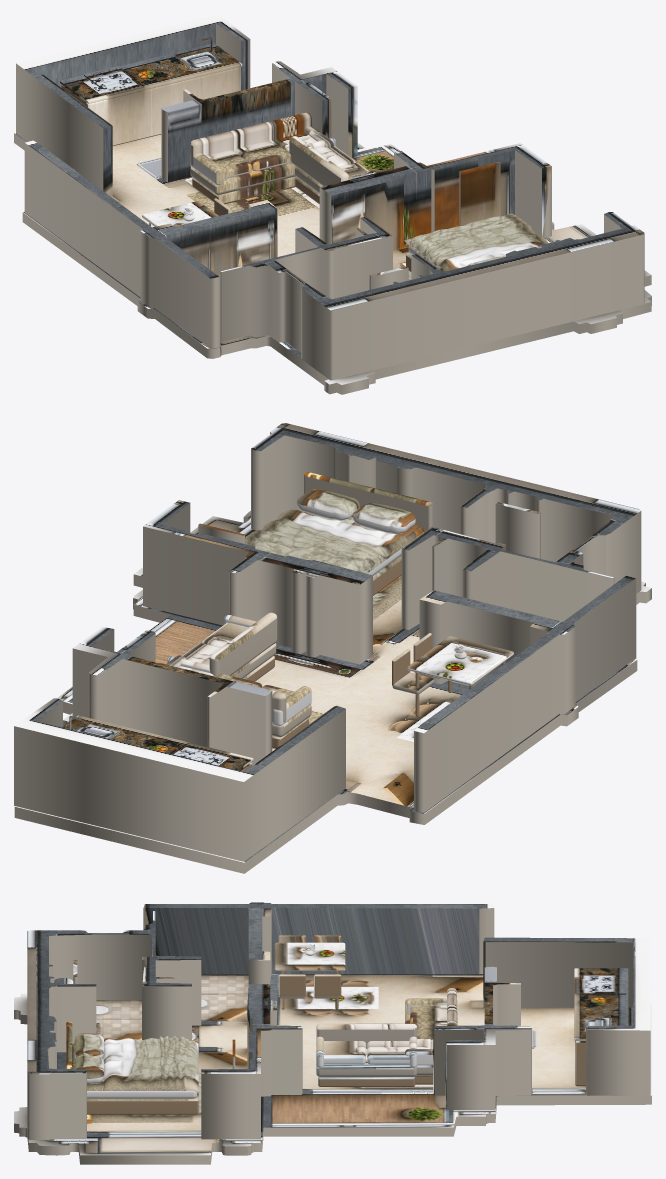
The model's file is p13-07-u07-2112-image-model.glb.
The picture shows the model from 3 angles, top to bottom: view 1: azimuth 30°, elevation 25°; view 2: azimuth 150°, elevation 25°; view 3: azimuth 270°, elevation 25°; orthographic projection. The views are drawn at different scales.
Visible parts, largest first — view 1: Partition walls, Apartment floor, Kitchen cabinets, Stone worktop, Draped bed linen, Sofa back, Draped bed linen.001, Sofa back.001, Upholstered sofa frame, Seat cushion.001, Sofa plinth, Marble dining top (+3 smaller); view 2: Partition walls, Apartment floor, Draped bed linen, Marble dining top, Stone worktop, Upholstered headboard, Sofa back.001, Draped bed linen.001, Tailored pillow, Tailored pillow.001, Piped mattress, Padded armrest; view 3: Partition walls, Apartment floor, Draped bed linen, Stone worktop, Marble dining top, Walnut upholstered base, Sofa back.001, Draped bed linen.001, Upholstered sofa frame.001, Piped mattress, Seat cushion.003, Seat cushion.004 (+10 smaller).
Part boxes in pixels (x1,y1,x2,y2): Partition walls: (16, 14, 644, 380); Apartment floor: (14, 132, 651, 394); Kitchen cabinets: (61, 67, 240, 145); Stone worktop: (60, 43, 242, 103); Draped bed linen: (404, 215, 548, 271); Sofa back: (190, 112, 312, 165); Draped bed linen.001: (409, 213, 531, 254); Sofa back.001: (289, 136, 348, 186); Upholstered sofa frame: (190, 162, 295, 194); Seat cushion.001: (235, 140, 291, 170); Sofa plinth: (192, 176, 295, 204); Marble dining top: (142, 201, 218, 226); Partition walls: (14, 423, 641, 861); Apartment floor: (14, 511, 651, 873); Draped bed linen: (245, 509, 408, 571); Marble dining top: (407, 636, 513, 685); Stone worktop: (62, 715, 253, 770); Upholstered headboard: (304, 472, 432, 532); Sofa back.001: (209, 612, 277, 676); Draped bed linen.001: (245, 530, 374, 572); Tailored pillow: (353, 503, 415, 534); Tailored pillow.001: (297, 489, 359, 520); Piped mattress: (296, 508, 423, 575); Padded armrest: (272, 686, 311, 725); Partition walls: (27, 902, 650, 1139); Apartment floor: (14, 973, 651, 1164); Draped bed linen: (103, 1037, 198, 1091); Stone worktop: (574, 968, 628, 1040); Marble dining top: (274, 942, 345, 971); Walnut upholstered base: (87, 1091, 198, 1114); Sofa back.001: (316, 1023, 417, 1048); Draped bed linen.001: (159, 1036, 188, 1089); Upholstered sofa frame.001: (316, 1048, 417, 1076); Piped mattress: (72, 1043, 197, 1098); Seat cushion.003: (324, 1041, 365, 1064); Seat cushion.004: (367, 1041, 409, 1064).
Size of the model in its own units: 7.03 by 1.3 by 10.05.
13 materials, 3 textured.
